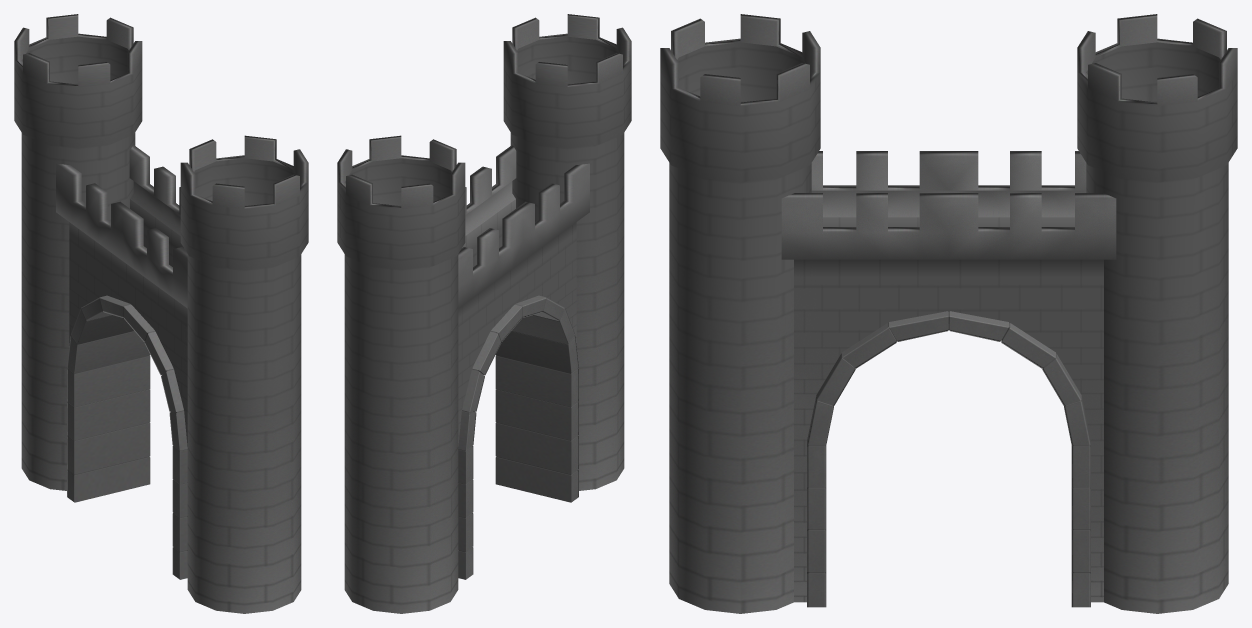
The model's file is ArchCastle.fbx.
3 renders of one model, left to right at view 1: azimuth 30°, elevation 25°; view 2: azimuth 150°, elevation 25°; view 3: azimuth 270°, elevation 25°, orthographic. The views are drawn at different scales.
Parts seen in each view (by area): view 1: ArchCastle; view 2: ArchCastle; view 3: ArchCastle.
Boxes of the visible parts, x1=… form: ArchCastle: x1=14, y1=14, x2=308, y2=613; ArchCastle: x1=337, y1=14, x2=631, y2=613; ArchCastle: x1=660, y1=14, x2=1237, y2=613.
Size of the model in its own units: 119 by 438 by 427.
